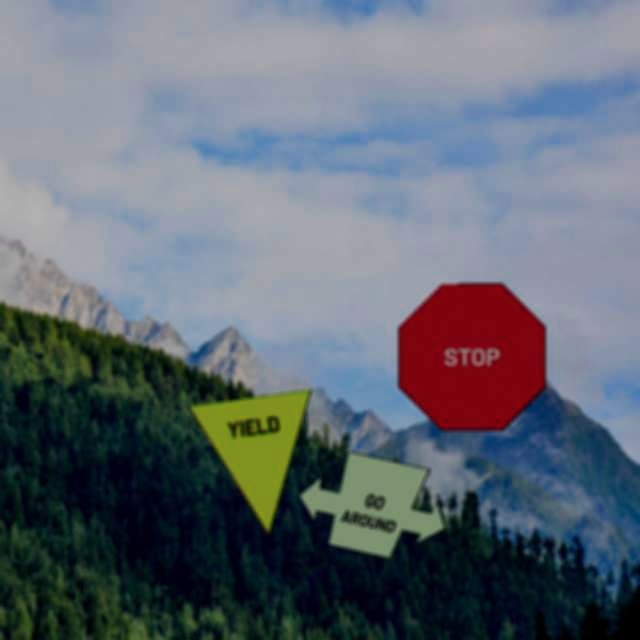GO_AROUND: (298, 450, 446, 559)
STOP: (398, 283, 546, 431)
YIELD: (187, 389, 312, 537)
